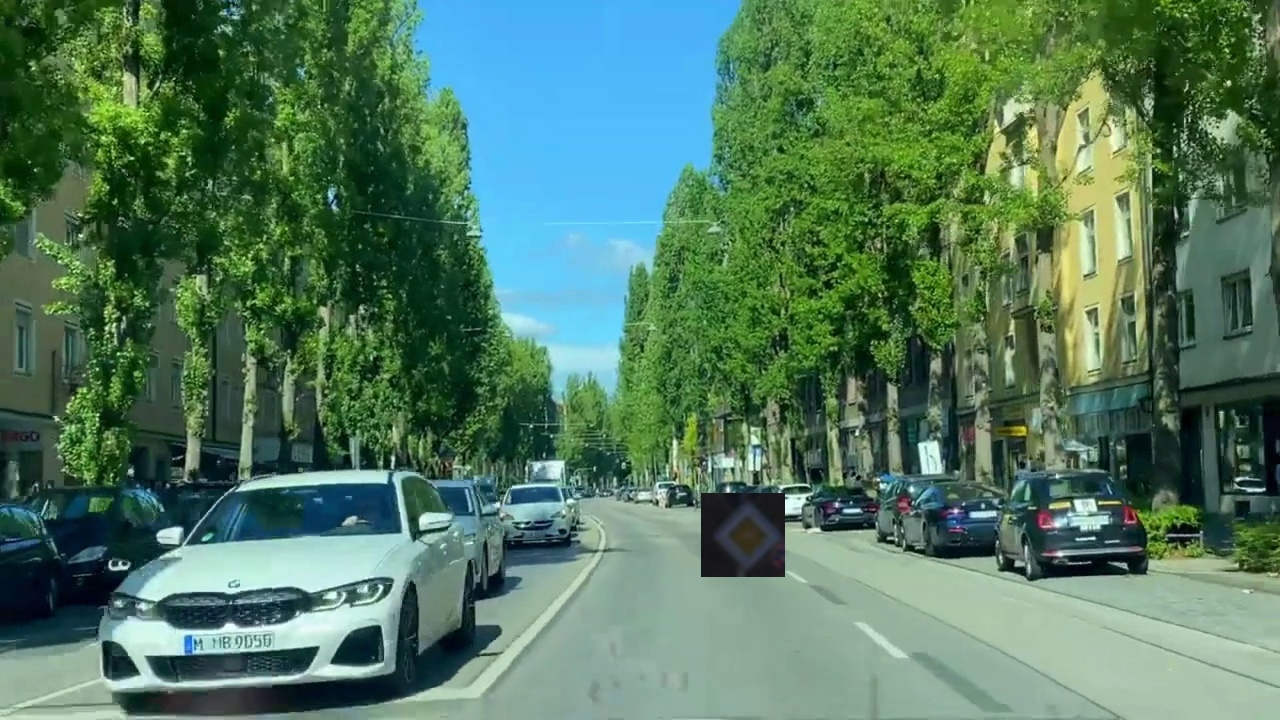Priority road: (701, 493, 785, 577)
